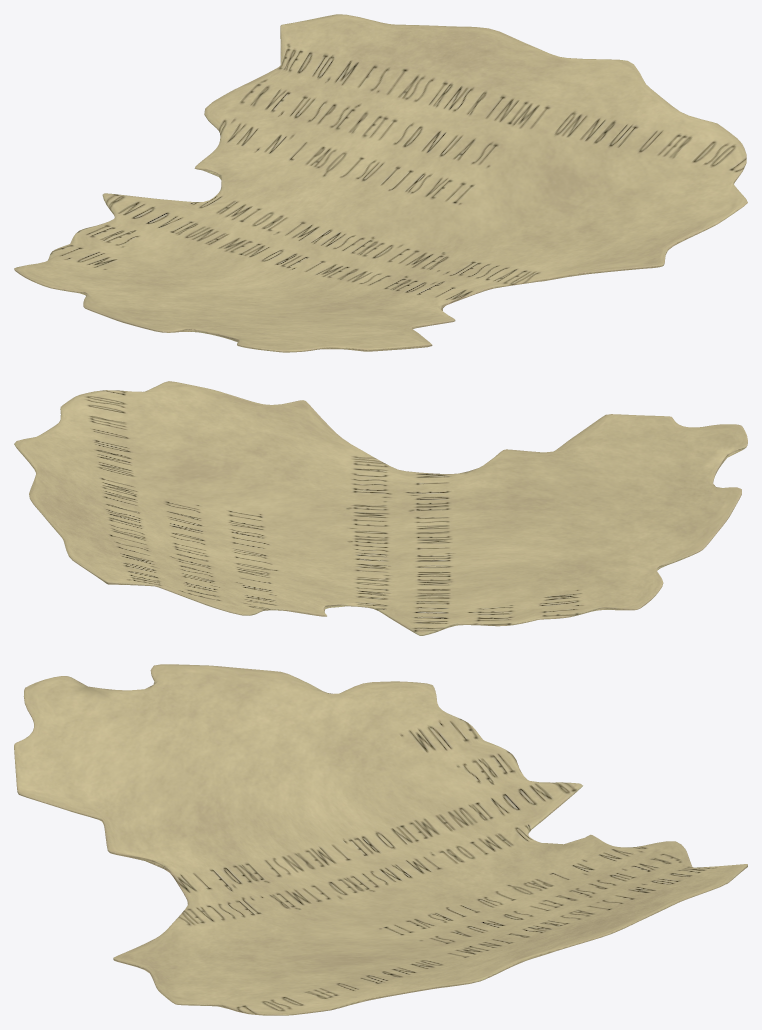
The model's file is Fragment.glb.
3 renders of one model, top to bottom at view 1: azimuth 30°, elevation 25°; view 2: azimuth 150°, elevation 25°; view 3: azimuth 270°, elevation 25°, orthographic. The views are drawn at different scales.
Visible parts, largest first — view 1: Plane; view 2: Plane; view 3: Plane.
Boxes of the visible parts, x1,y1,x2,y2 form: Plane: (14, 14, 747, 352); Plane: (14, 381, 747, 635); Plane: (14, 664, 747, 1015).
Size of the model in its own units: 0.9118 by 0.1012 by 0.8138.
Materials: 1 (1 with a texture image).
